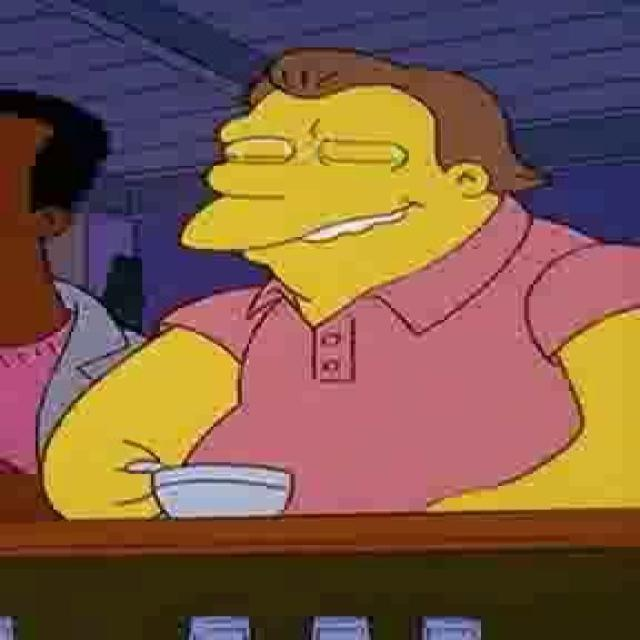Barney Gumble: (171, 49, 549, 310)
